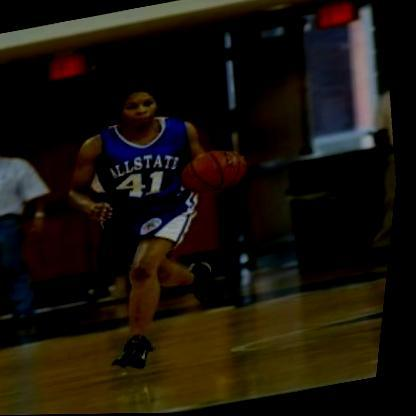basketball: (176, 138, 261, 205)
